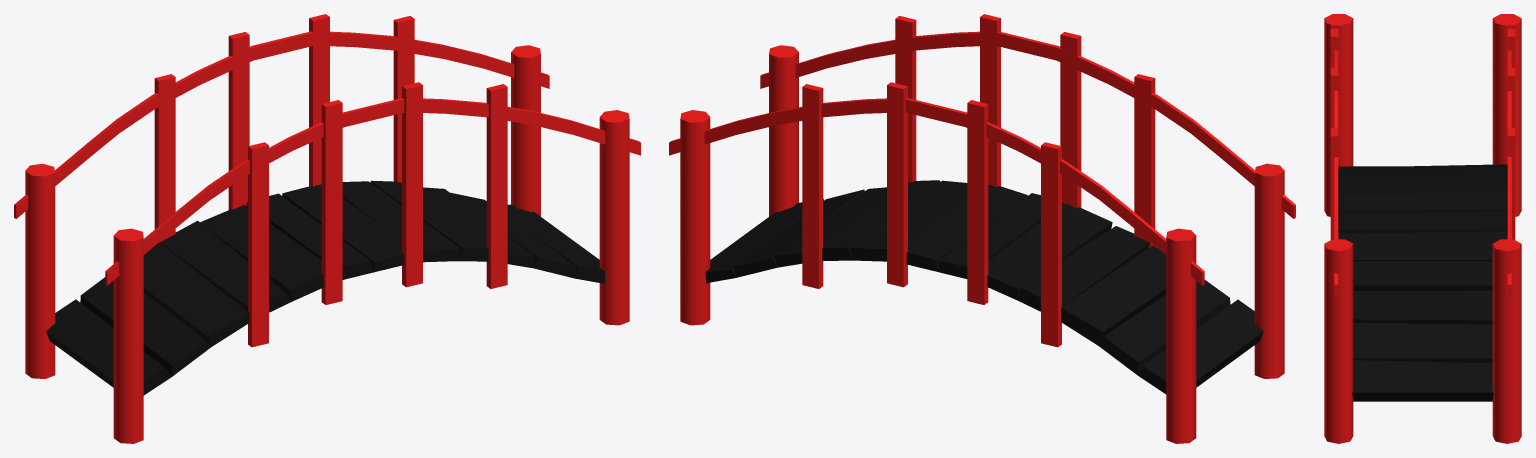
File: Pont.FBX
3 views of the same model, side by side, from view 1: azimuth 30°, elevation 25°; view 2: azimuth 150°, elevation 25°; view 3: azimuth 270°, elevation 25° (orthographic). The views are drawn at different scales.
Visible parts, largest first — view 1: Plane002; view 2: Plane002; view 3: Plane002.
Part boxes in pixels (left/top/right/bottom): Plane002: left=14, top=14, right=640, bottom=443; Plane002: left=669, top=14, right=1295, bottom=443; Plane002: left=1324, top=14, right=1521, bottom=443.
Size of the model in its own units: 98.71 by 50.72 by 33.24.
